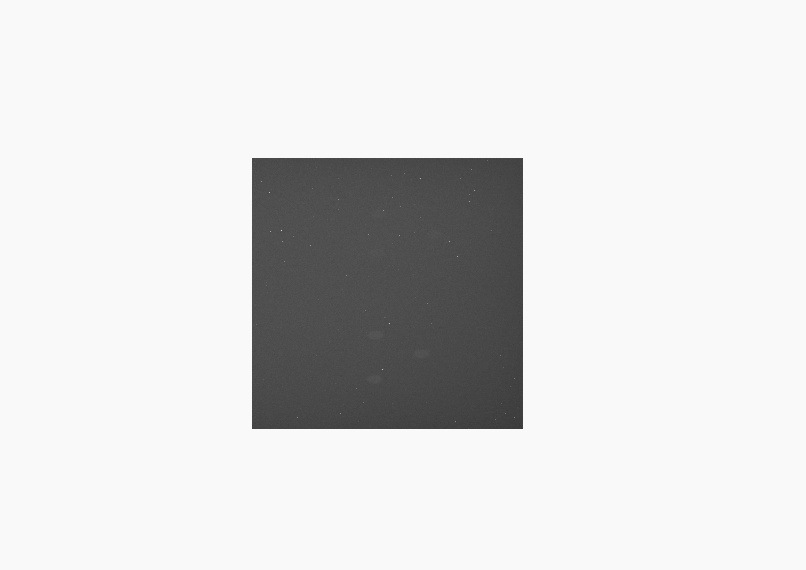cluster: (370, 205, 441, 260), (366, 329, 430, 384)
